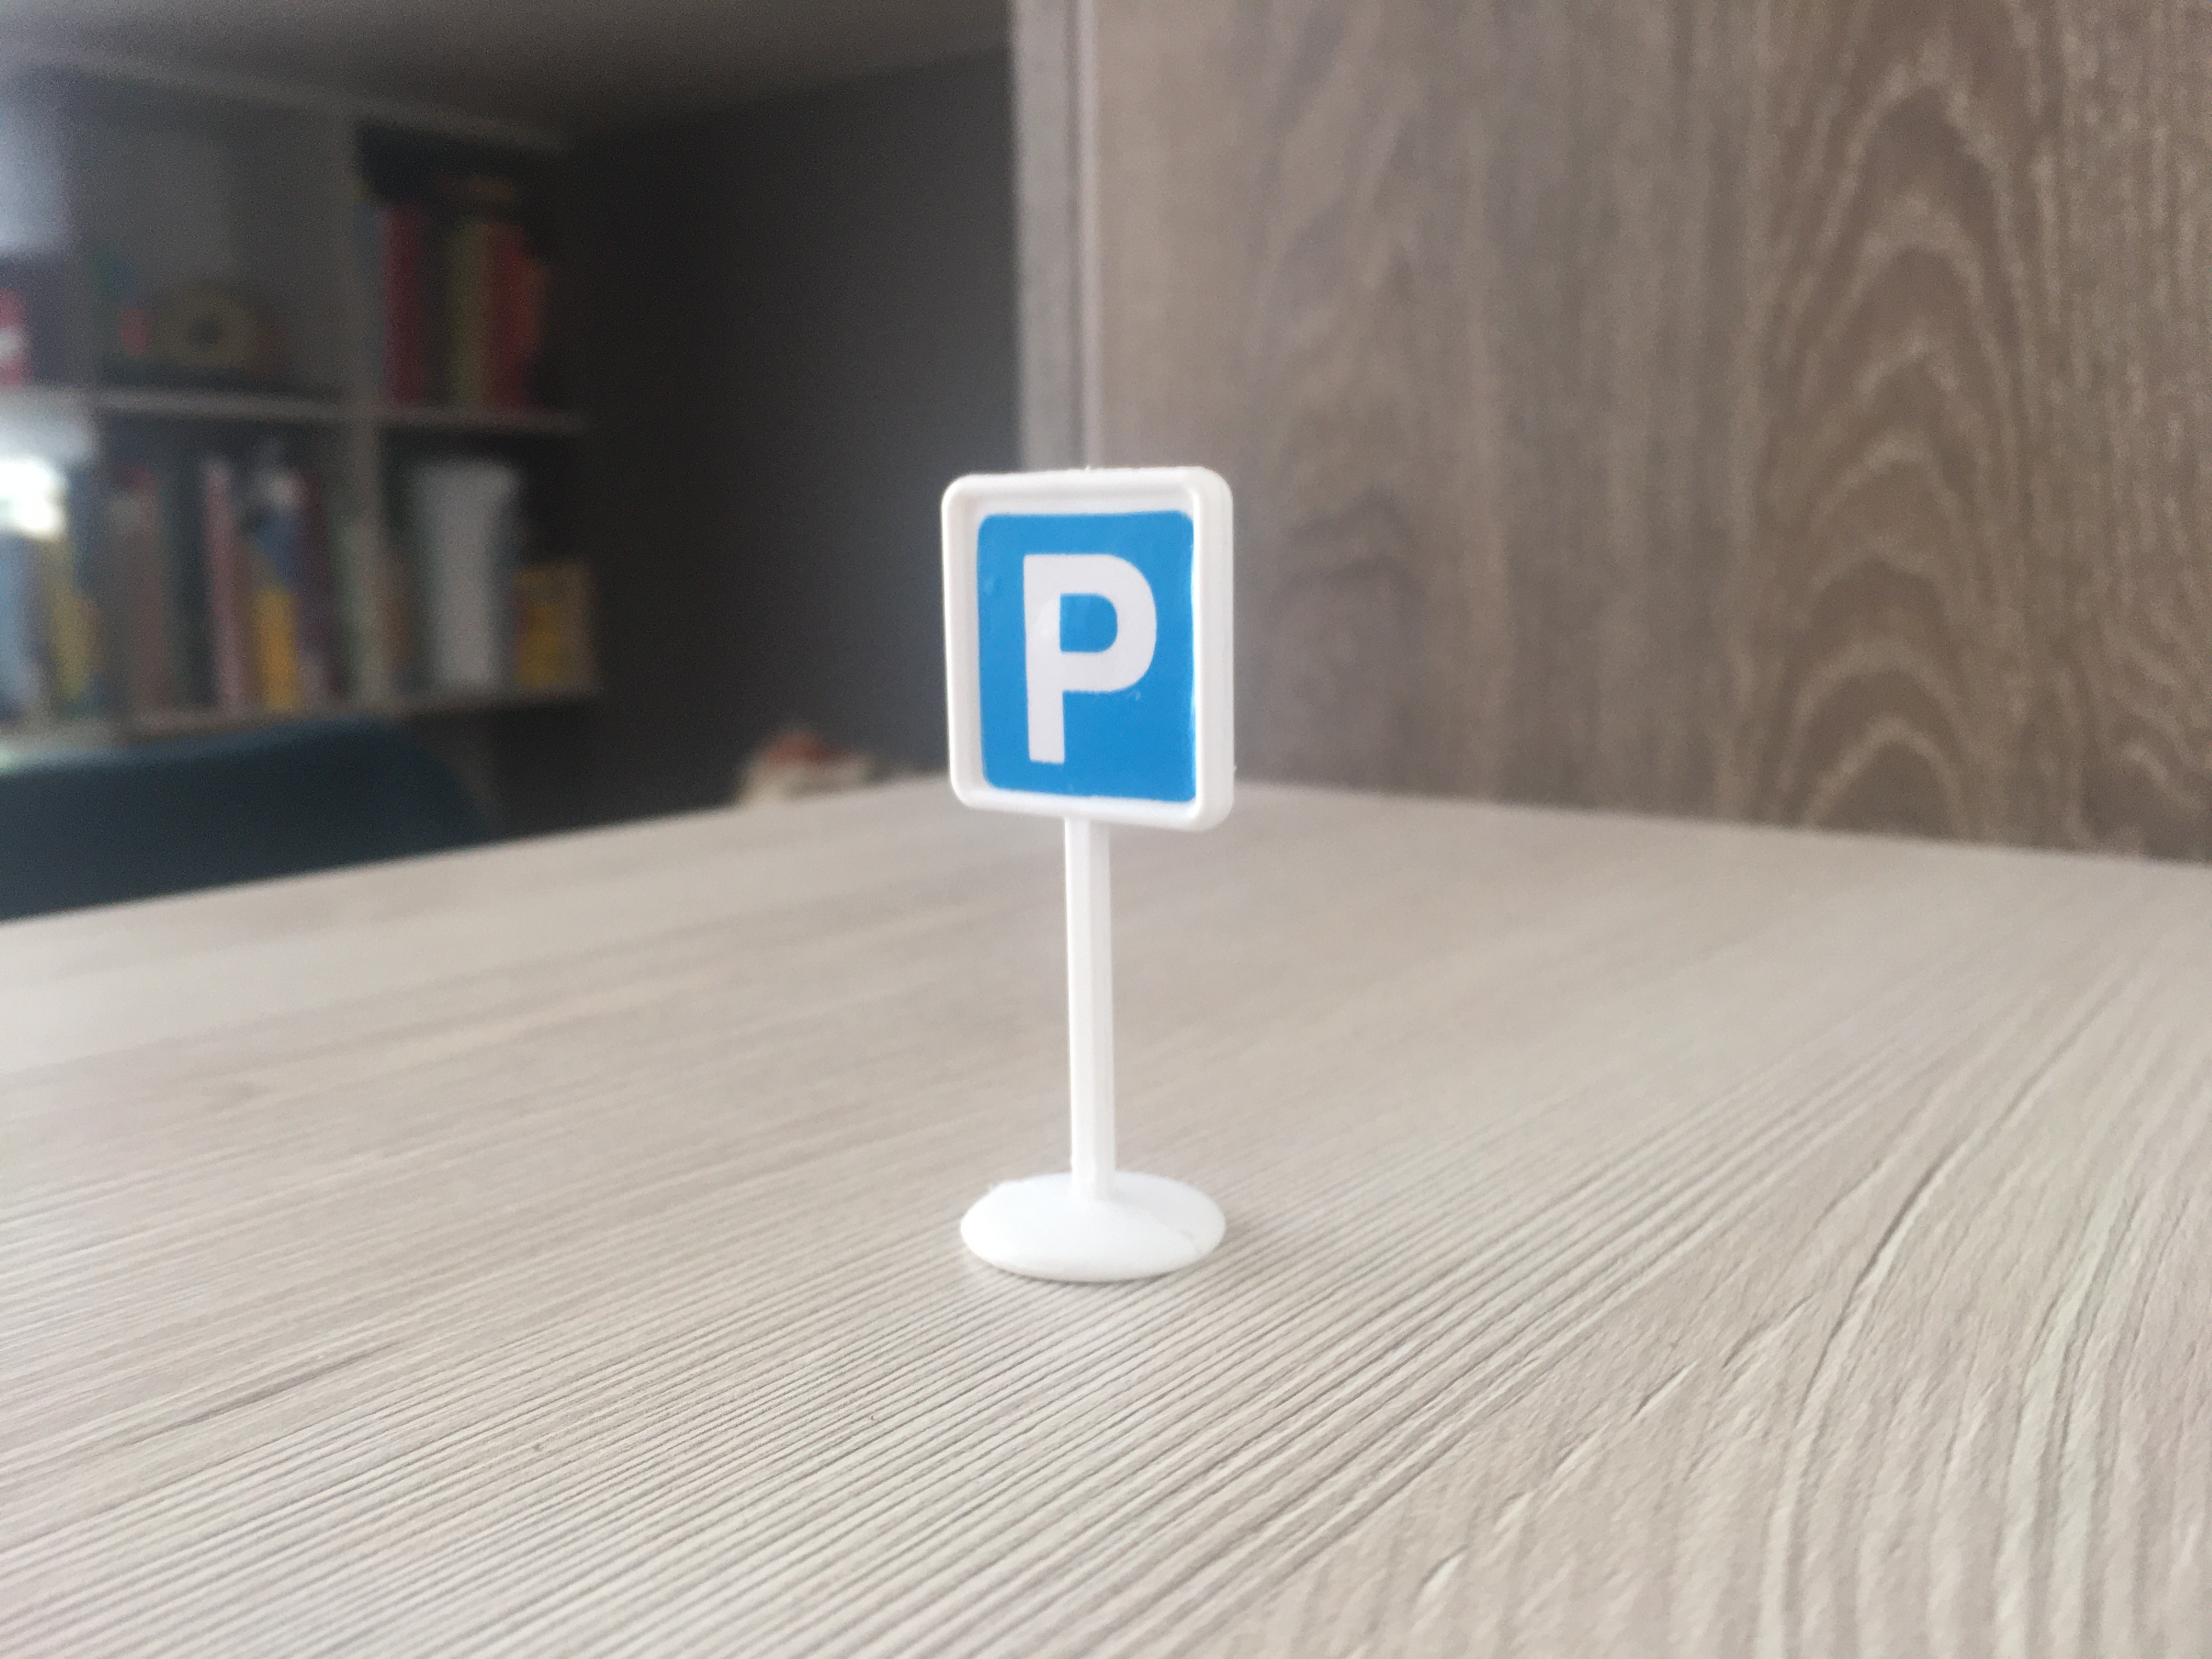parking: (934, 467, 1237, 835)
